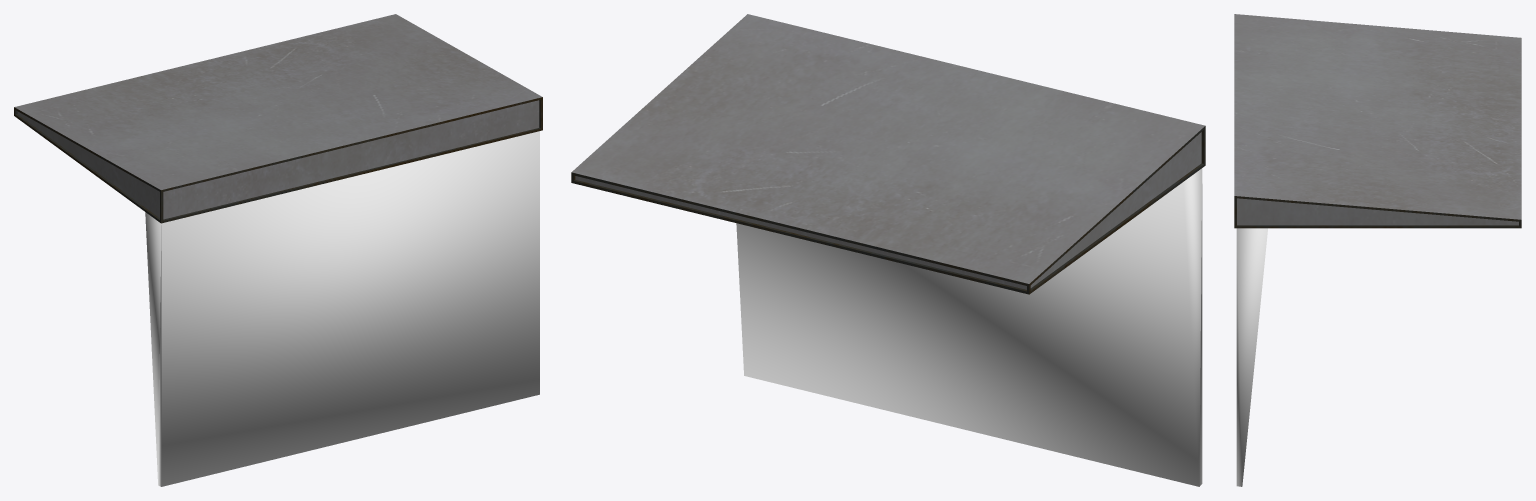
Rendered from SM_Roof_Large_02.fbx.
The picture shows the model from 3 angles, left to right: view 1: azimuth 30°, elevation 25°; view 2: azimuth 150°, elevation 25°; view 3: azimuth 270°, elevation 25°; orthographic projection. The views are drawn at different scales.
Visible parts, largest first — view 1: SM_Roof_Large_02_ConvexHulls, SM_Roof_Large_02; view 2: SM_Roof_Large_02, SM_Roof_Large_02_ConvexHulls; view 3: SM_Roof_Large_02, SM_Roof_Large_02_ConvexHulls.
Boxes of the visible parts, bbox=[...] form: SM_Roof_Large_02_ConvexHulls: bbox=[145, 131, 539, 486]; SM_Roof_Large_02: bbox=[14, 14, 542, 223]; SM_Roof_Large_02: bbox=[571, 14, 1205, 294]; SM_Roof_Large_02_ConvexHulls: bbox=[736, 168, 1202, 486]; SM_Roof_Large_02: bbox=[1234, 14, 1521, 228]; SM_Roof_Large_02_ConvexHulls: bbox=[1236, 228, 1267, 486].
Size of the model in its own units: 9 by 6.72 by 6.
